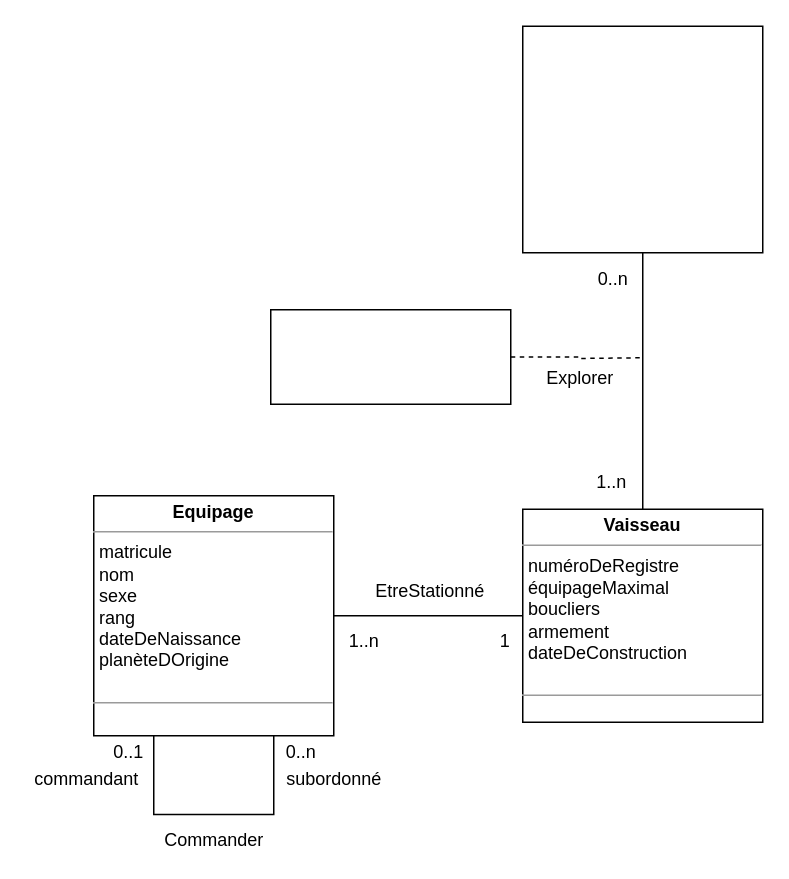
Some shapes in this 789 by 879 pixel diagram are drawn without their labels. The box of each missing label's shape, as (x1, y1, x2, y2) in pixels:
Explorer rapport: (269, 308, 511, 404)
Objet désignation masse habitable circonférence atmosphère périodeDeRotation: (521, 25, 763, 253)
